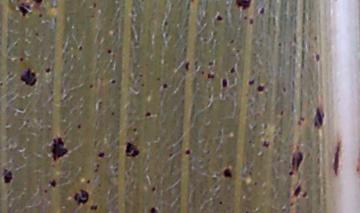tarspot: (49, 135, 69, 162), (287, 150, 304, 176), (18, 67, 38, 88), (330, 144, 342, 176), (73, 187, 89, 206), (124, 140, 140, 159), (17, 1, 32, 19), (313, 106, 324, 130), (1, 166, 14, 185), (234, 1, 253, 11), (222, 167, 234, 180), (291, 184, 302, 197), (296, 115, 305, 127), (47, 178, 57, 188), (220, 77, 228, 89), (214, 13, 224, 22), (96, 150, 105, 160), (255, 84, 265, 93), (183, 61, 191, 72), (261, 140, 270, 149), (143, 110, 152, 119), (89, 204, 99, 212), (314, 52, 322, 62), (257, 6, 265, 15), (148, 206, 158, 213), (96, 99, 103, 109), (44, 67, 52, 75), (301, 190, 308, 199), (229, 65, 236, 74), (246, 79, 255, 86), (206, 72, 215, 79), (248, 17, 255, 26), (281, 85, 288, 94), (184, 148, 191, 156), (312, 34, 319, 42), (276, 40, 283, 48), (32, 1, 43, 6), (252, 179, 258, 188), (17, 56, 24, 63), (84, 178, 91, 185), (131, 127, 138, 134), (241, 14, 248, 21), (228, 38, 235, 45), (33, 30, 40, 37), (167, 151, 174, 158), (137, 72, 144, 79), (150, 185, 156, 193), (162, 82, 168, 90), (110, 78, 116, 86), (91, 1, 97, 9), (36, 12, 44, 18), (207, 60, 215, 66), (139, 82, 147, 88), (76, 123, 82, 130), (162, 20, 169, 26), (109, 110, 115, 117), (217, 200, 224, 206), (93, 162, 100, 168), (77, 45, 84, 51), (234, 47, 240, 54), (155, 75, 161, 82), (88, 82, 93, 90), (279, 109, 284, 117), (106, 48, 112, 54), (92, 167, 98, 173), (289, 200, 294, 207), (200, 69, 205, 76), (42, 189, 49, 193), (1, 81, 4, 89), (243, 209, 249, 213)
